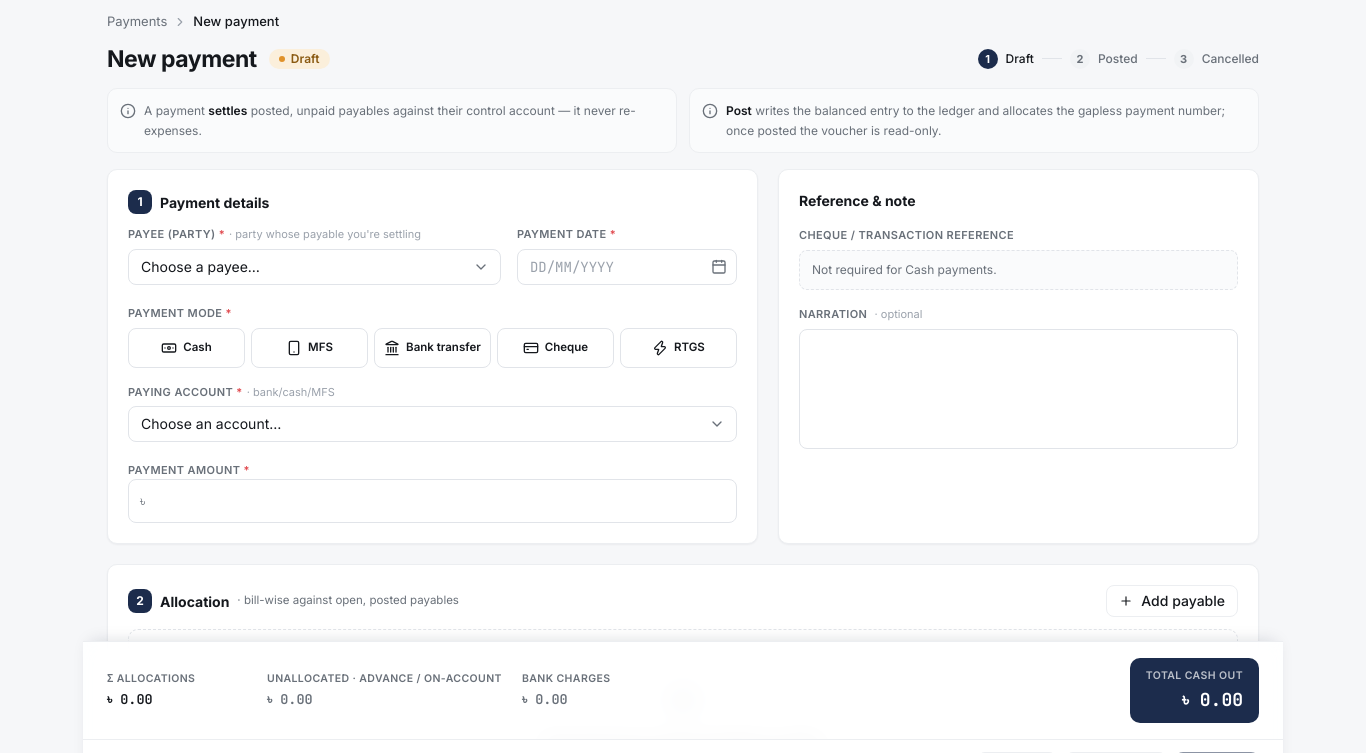
PaymentEditor — new draft header + Post gating (FR-PAY-001/-002/-005/-012) › hides the cheque-ref field for CASH and requires it for BANK_TRANSFER
Expected: the heading "New payment" is shown, [107,42,257,76]
Note: CASH → no cheque-ref field.
Click the radio button with test id "payment-editor-mode-CASH" at (186, 348), box [128,328,245,368]
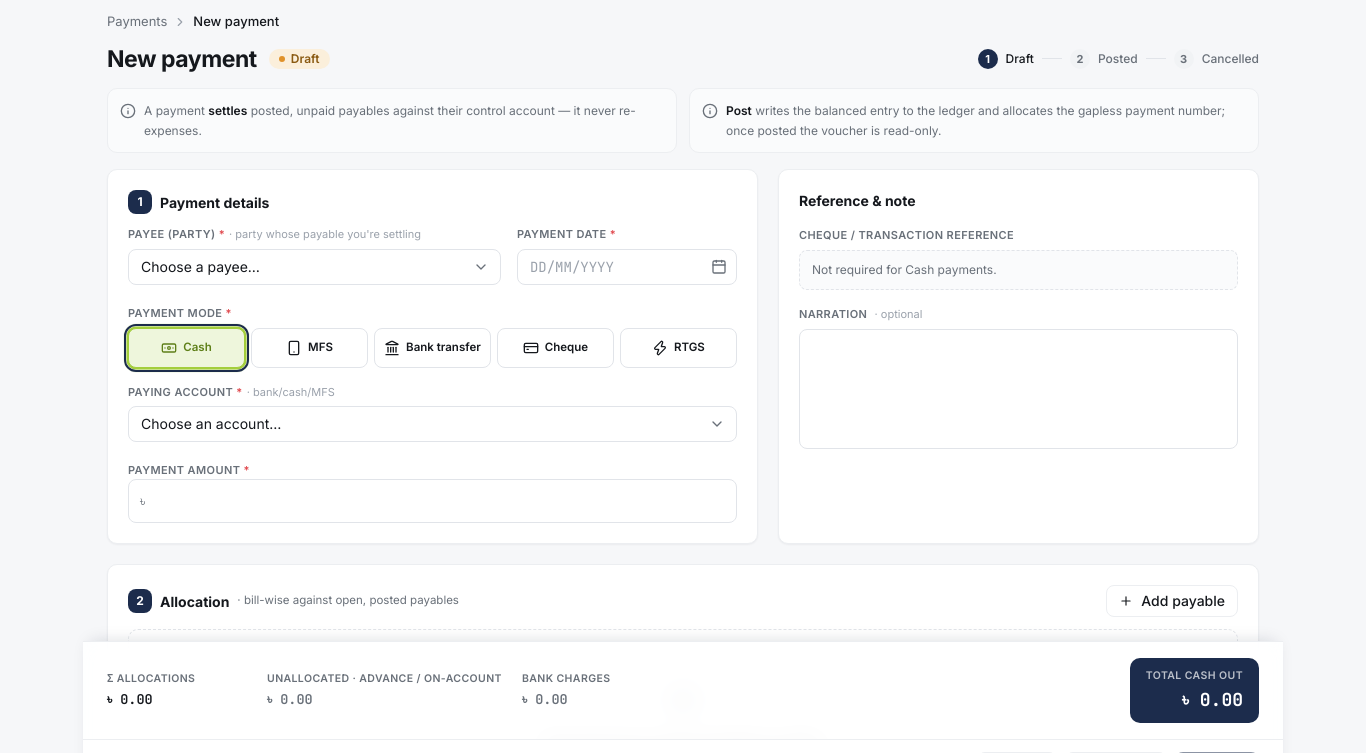
Note: BANK_TRANSFER → field appears + required inline on Save attempt.
Click the radio button with test id "payment-editor-mode-BANK_TRANSFER" at (432, 348), box [374,328,491,368]
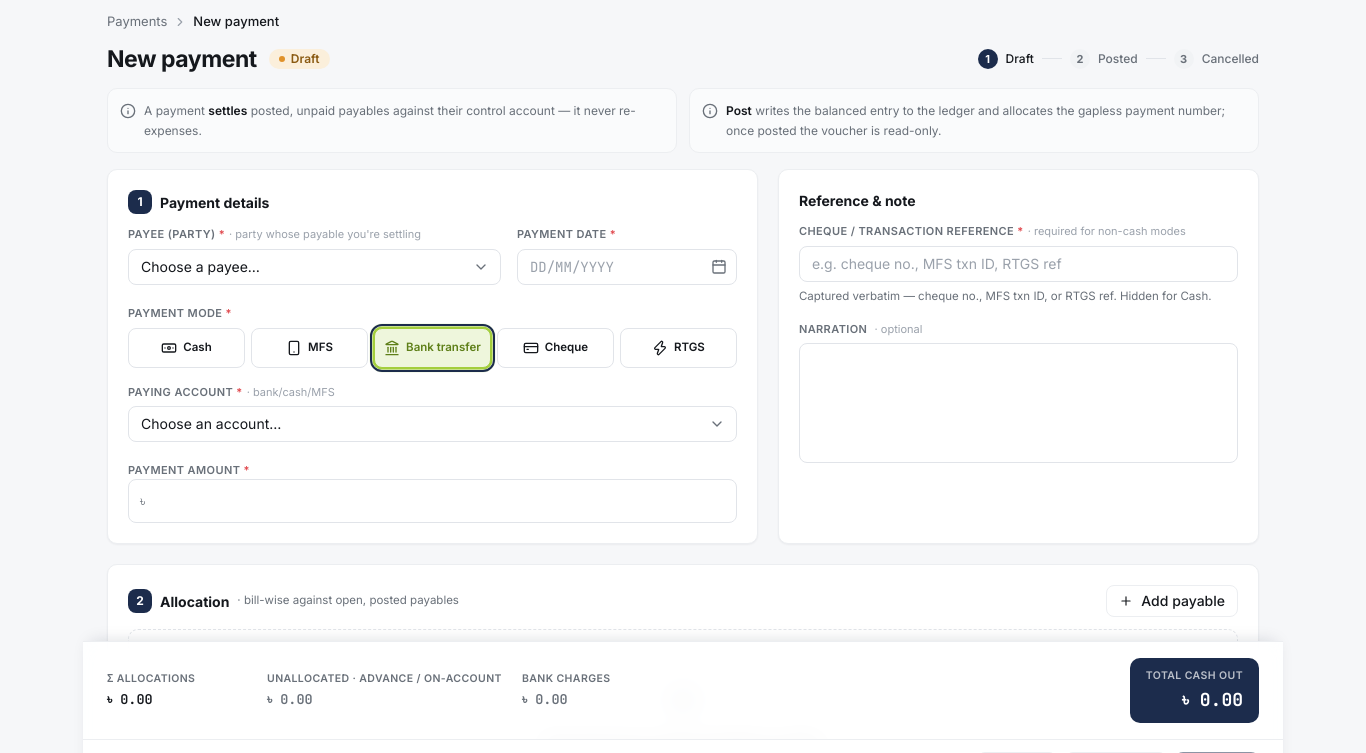
Expected: the field with test id "payment-editor-cheque-ref" is shown, [799,246,1238,282]
